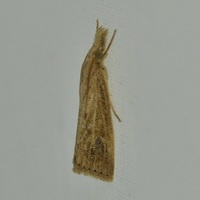insect: (73, 20, 119, 181)
